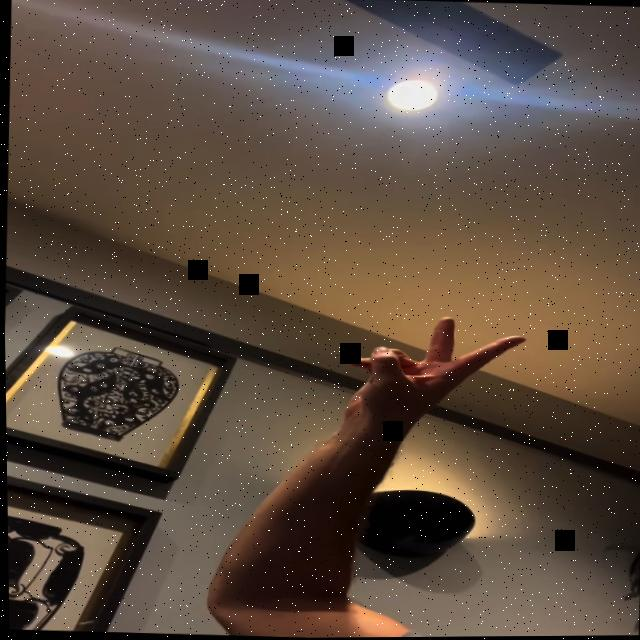Scissors: (347, 313, 531, 426)
